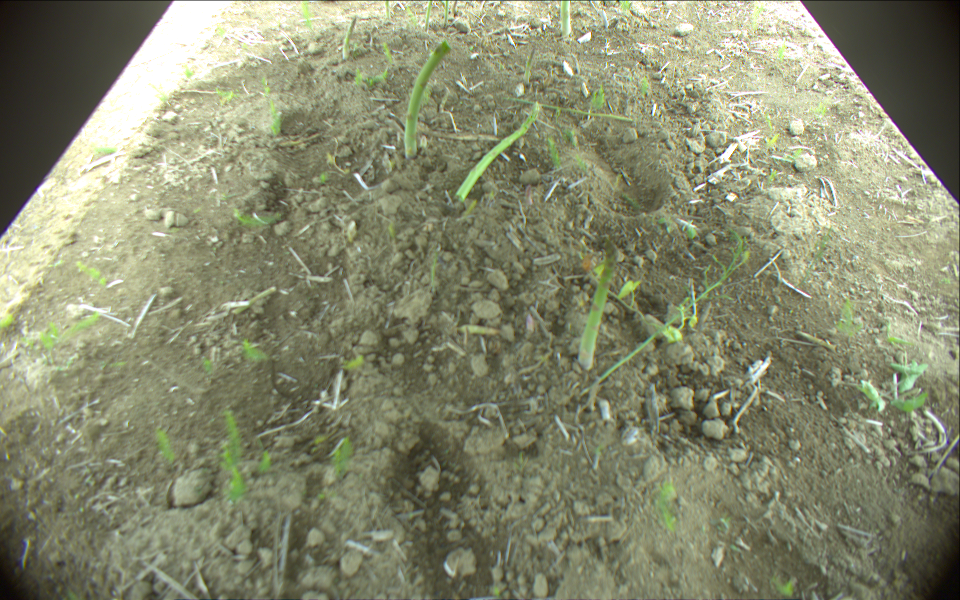aspa: (456, 101, 541, 200), (405, 42, 450, 158), (578, 239, 617, 370), (502, 99, 634, 122), (342, 18, 355, 58), (559, 1, 572, 34), (424, 1, 432, 34), (442, 1, 450, 30), (384, 1, 391, 21)
